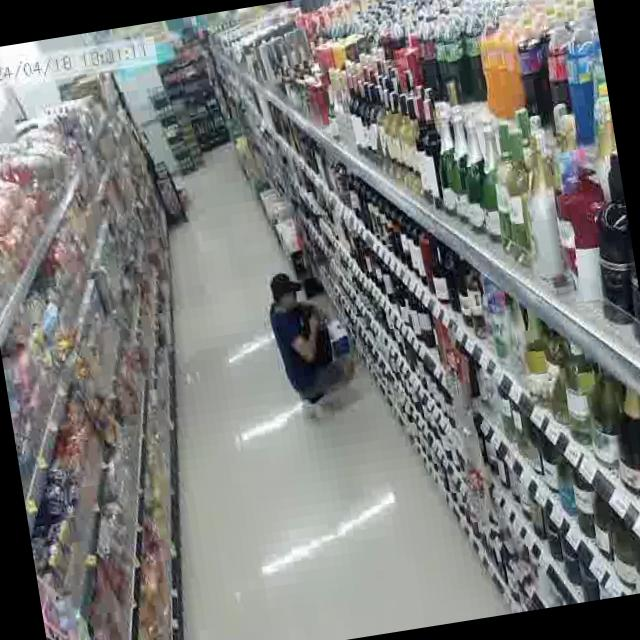shoplifting: (250, 250, 380, 436)
